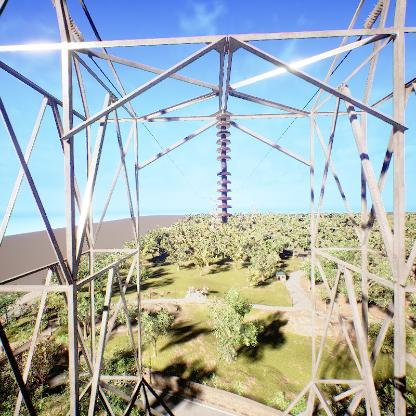insulator: (213, 111, 234, 222)
